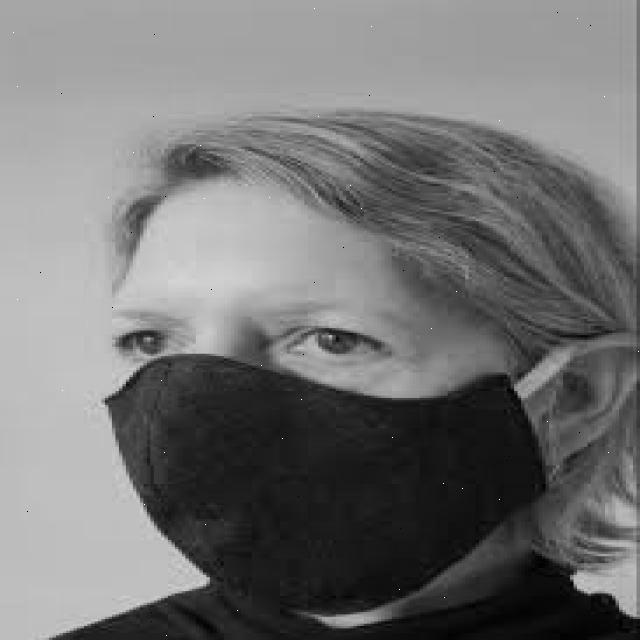fake: (104, 352, 553, 615)
real: (115, 183, 517, 619)
